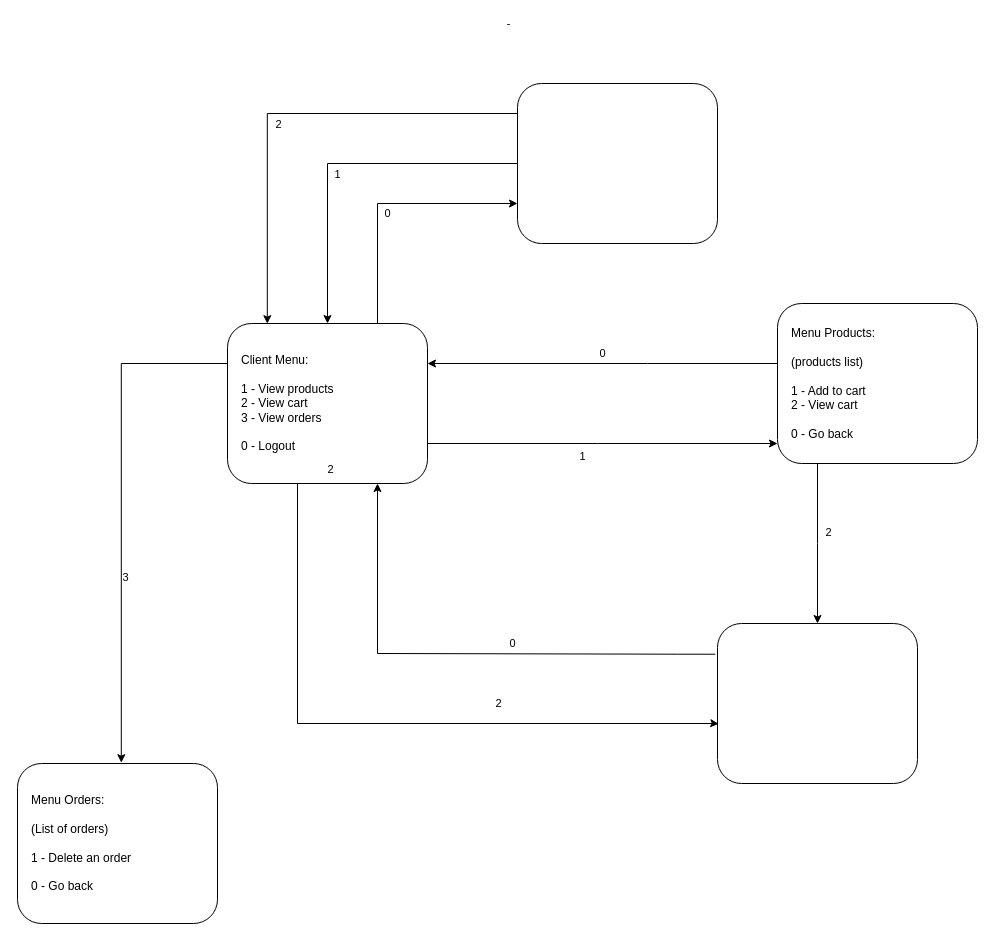
Image size: 995x941. Some labels were removed from this diagram. The centre of each missing label's shape, as x and y in pixels:
Main Menu: 1 -Login 2 - Register 0 - Exit: point (617, 163)
Menu Cart: (products in cart) 1 - Delete product 2 - Checkout 0 - Go back: point (817, 703)
